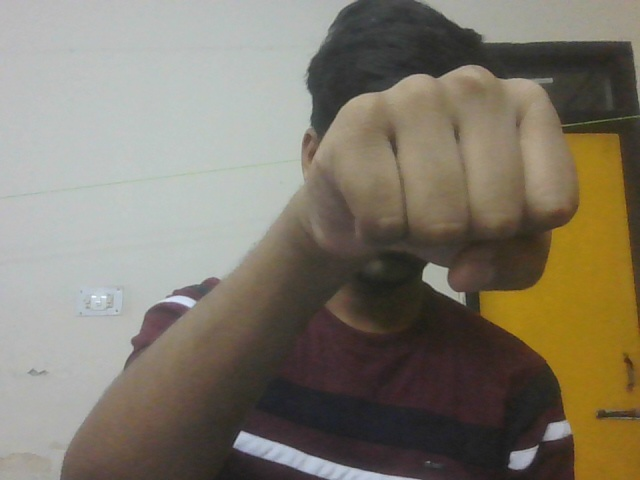yes: (289, 51, 613, 325)
